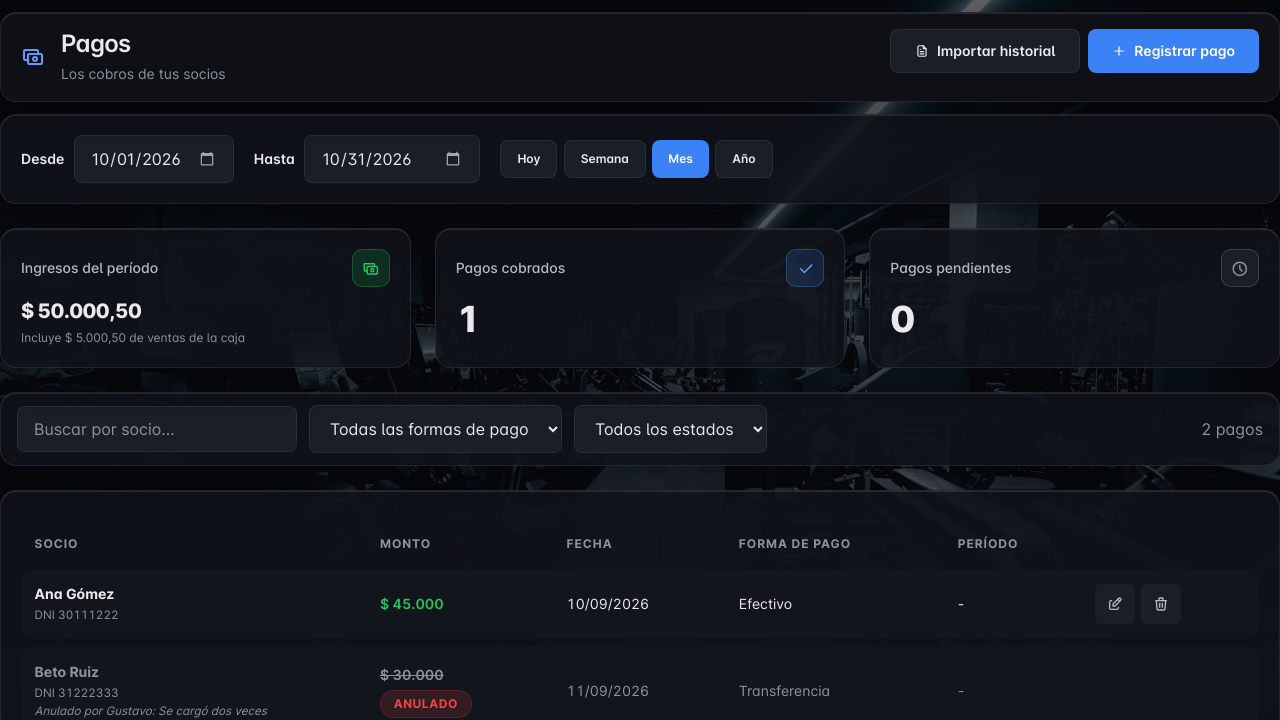
Scenario: Pagos › avisa que un cobro ya cerrado en caja va a entrar como corrección si se edita
Click the button titled "Editar": (1116, 604) [1096,584,1136,624]
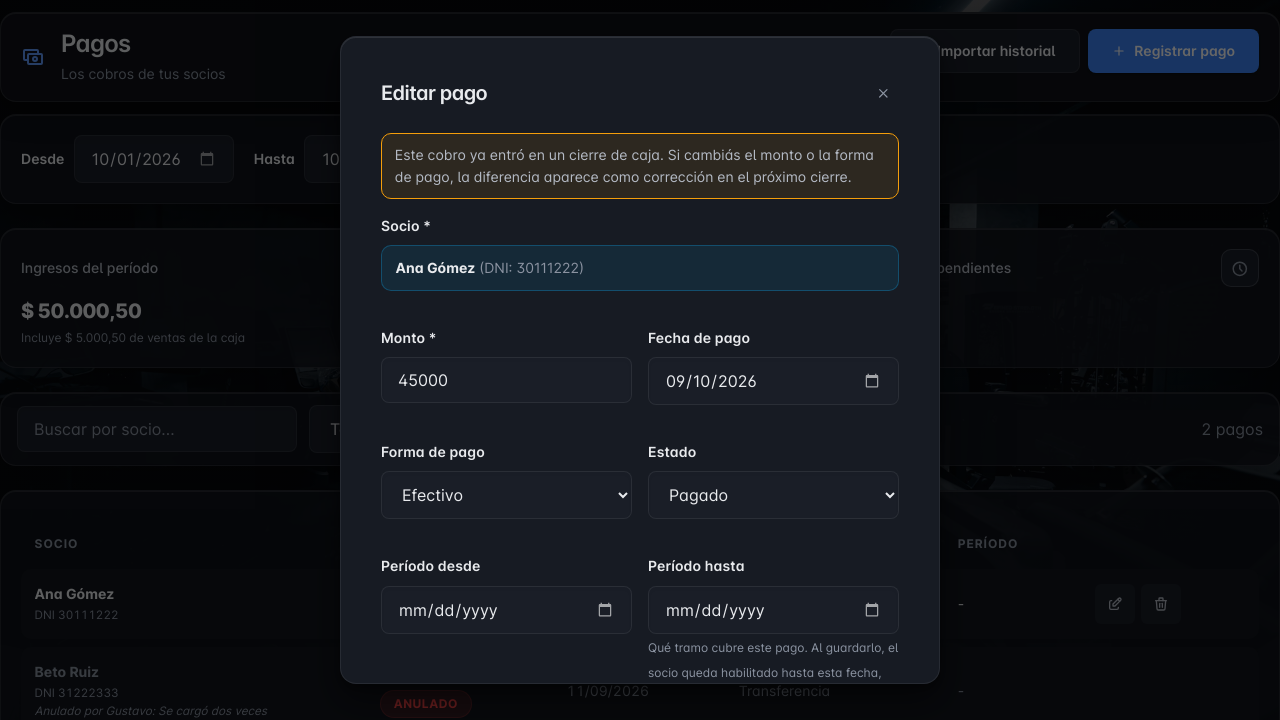
Check: the text "ya entró en un cierre de caja" is shown, box [395,146,874,185]
